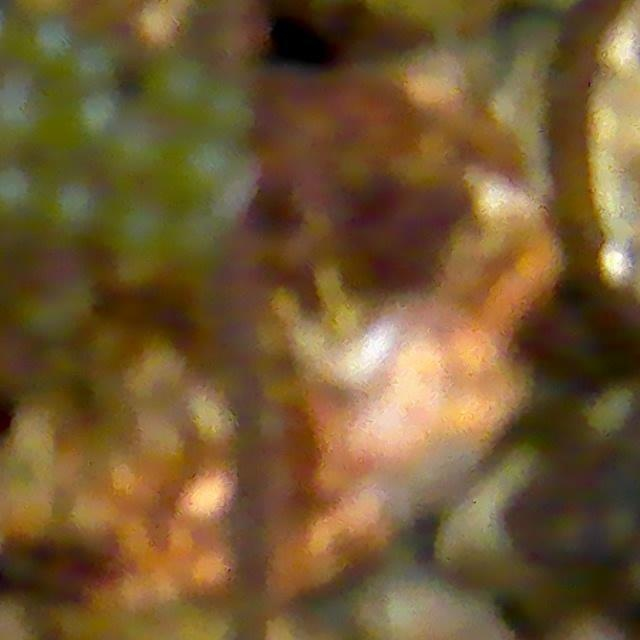SeaGrape: (38, 170, 111, 246), (101, 190, 175, 264), (143, 48, 215, 119), (0, 72, 60, 157), (105, 115, 173, 183), (63, 89, 125, 152), (0, 158, 51, 234), (26, 17, 76, 72), (593, 501, 640, 554)
